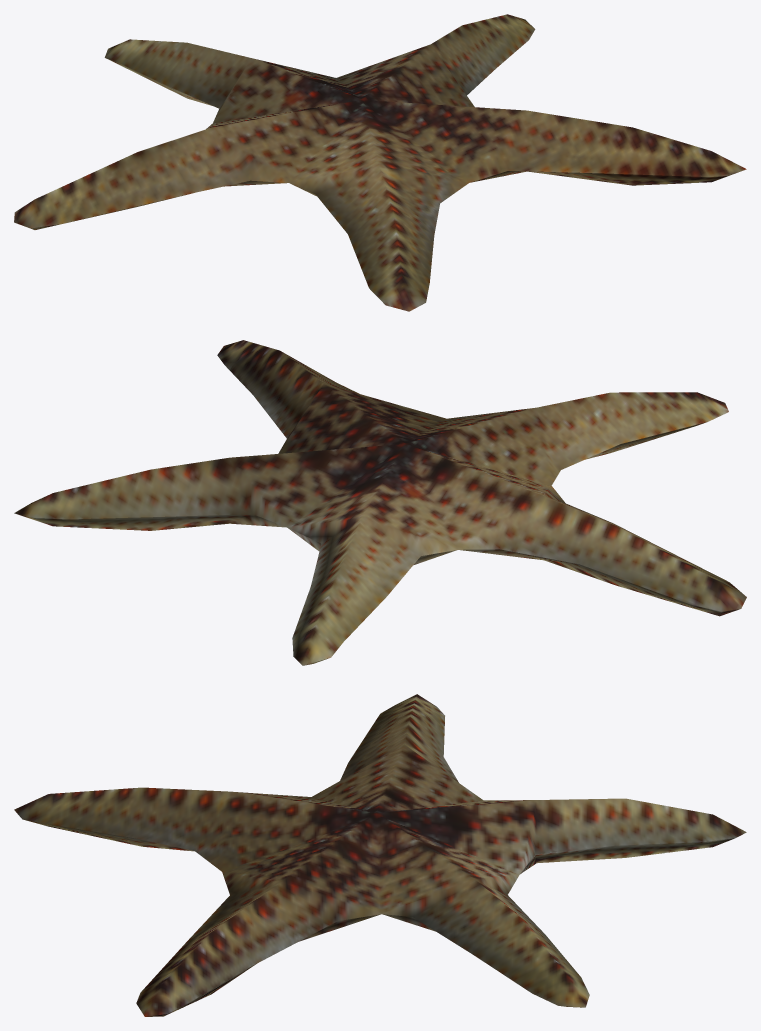
File: Shells-Star_LOD0_FattooCreater.glb
The picture shows the model from 3 angles, top to bottom: view 1: azimuth 30°, elevation 25°; view 2: azimuth 150°, elevation 25°; view 3: azimuth 270°, elevation 25°; orthographic projection. The views are drawn at different scales.
Visible parts, largest first — view 1: Shells-Star_high; view 2: Shells-Star_high; view 3: Shells-Star_high.
Part boxes in pixels (x1,y1,x2,y2): Shells-Star_high: (14, 14, 746, 311); Shells-Star_high: (14, 340, 746, 665); Shells-Star_high: (14, 694, 746, 1016).
Size of the model in its own units: 0.0675 by 0.00811 by 0.0667.
Materials: 1 (1 with a texture image).
